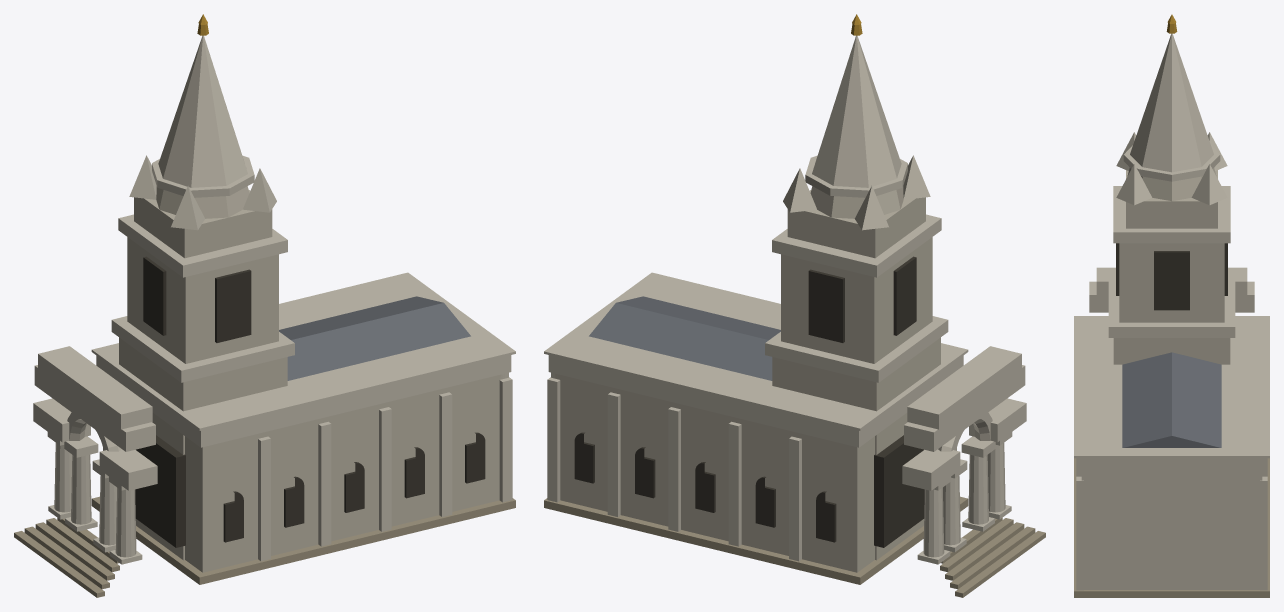
The model's file is christ_church_spitalfields.glb.
The picture shows the model from 3 angles, left to right: view 1: azimuth 30°, elevation 25°; view 2: azimuth 150°, elevation 25°; view 3: azimuth 270°, elevation 25°; orthographic projection. The views are drawn at different scales.
Visible parts, largest first — view 1: christ_church_spitalfields; view 2: christ_church_spitalfields; view 3: christ_church_spitalfields.
Part boxes in pixels (left/top/right/bottom): christ_church_spitalfields: left=14, top=14, right=515, bottom=597; christ_church_spitalfields: left=544, top=14, right=1045, bottom=597; christ_church_spitalfields: left=1074, top=14, right=1269, bottom=597.
Bounding box in the file's own units: 56.55 × 68.8 × 26.
